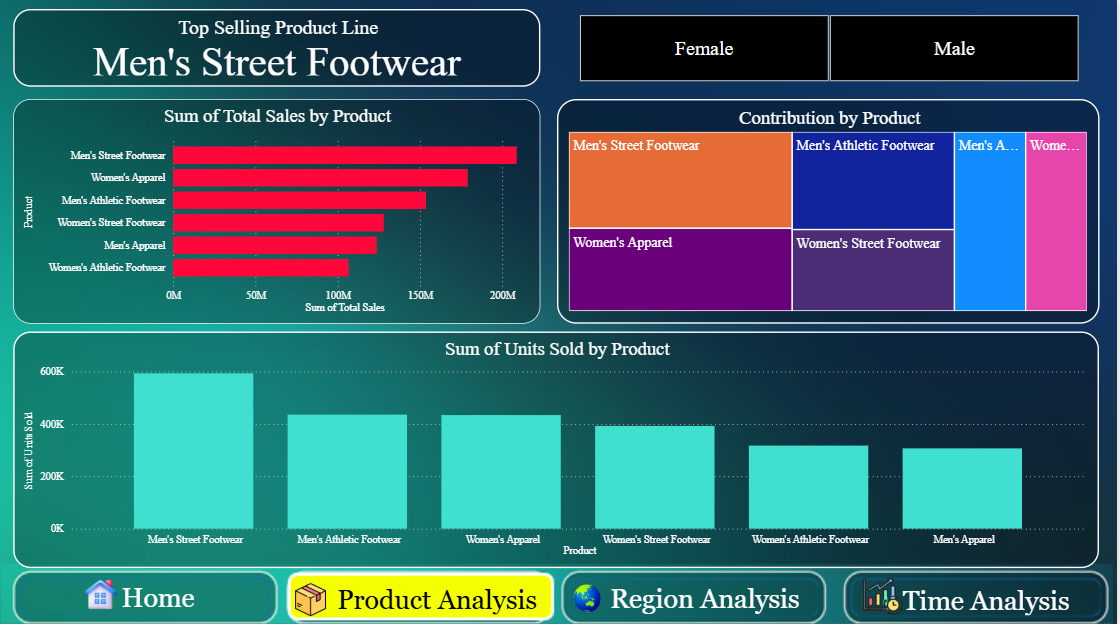

The dashboard page shown, as its layout file describes it:
{"tool":"powerbi","page":{"name":"Product Analysis","canvas":[1280,720],"ordinal":1},"visuals":[{"type":"clusteredBarChart","fields":{"Y":["Sum(Data Sales Adidas.Total Sales)"],"Category":["Data Sales Adidas.Product"]},"box":[19.2,113.9,602.4,256.6],"z":0},{"type":"treemap","title":"Contribution by Product","fields":{"Details":["Data Sales Adidas.Product"],"Values":["Sum(Data Sales Adidas.Total Sales)"]},"box":[639.5,113.9,620.2,256.6],"z":1000},{"type":"card","title":"Top Selling Product Line","fields":{"Values":["Data Sales Adidas.Top Selling Product Line"]},"box":[19.2,11,602.4,89.2],"z":2000},{"type":"slicer","title":"Gender","fields":{"Values":["Data Sales Adidas.Gender"]},"box":[639.5,11,620.2,89.2],"z":3000},{"type":"image","box":[0,640,1280,80],"z":4000},{"type":"lineStackedColumnComboChart","fields":{"Category":["Data Sales Adidas.Product"],"Y":["Sum(Data Sales Adidas.Units Sold)"]},"box":[19.2,380.1,1240.5,270.3],"z":5000},{"type":"image","box":[654.3,660,42.9,52.9],"z":6000},{"type":"image","box":[330,662.9,57.1,47.1],"z":7000},{"type":"image","box":[980,654.3,64.3,57.1],"z":8000},{"type":"actionButton","box":[964.3,657.1,304.3,60],"z":9000},{"type":"actionButton","box":[640,655.7,310,60],"z":10000},{"type":"image","box":[651.4,655.7,45.7,57.1],"z":11000},{"type":"actionButton","box":[330,652.9,310,67.1],"z":12000},{"type":"actionButton","box":[20,654.3,300,58.6],"z":13000},{"type":"image","box":[85.7,657.1,64.3,47.1],"z":14000}]}

Visuals, with their boxes in screenshot pixels (x1, y1, x2, y2), scaled from the page's 1280x720 canvas onto the 1120x624 screenshot:
clusteredBarChart - Sum(Data Sales Adidas.Total Sales) x Data Sales Adidas.Product: {"x1": 17, "y1": 99, "x2": 544, "y2": 321}
"Contribution by Product" treemap: {"x1": 560, "y1": 99, "x2": 1102, "y2": 321}
"Top Selling Product Line" card: {"x1": 17, "y1": 10, "x2": 544, "y2": 87}
"Gender" slicer: {"x1": 560, "y1": 10, "x2": 1102, "y2": 87}
image: {"x1": 0, "y1": 555, "x2": 1119, "y2": 623}
lineStackedColumnComboChart - Data Sales Adidas.Product x Sum(Data Sales Adidas.Units Sold): {"x1": 17, "y1": 329, "x2": 1102, "y2": 564}
image: {"x1": 573, "y1": 572, "x2": 610, "y2": 618}
image: {"x1": 289, "y1": 575, "x2": 339, "y2": 615}
image: {"x1": 858, "y1": 567, "x2": 914, "y2": 617}
actionButton: {"x1": 844, "y1": 569, "x2": 1110, "y2": 621}
actionButton: {"x1": 560, "y1": 568, "x2": 831, "y2": 620}
image: {"x1": 570, "y1": 568, "x2": 610, "y2": 618}
actionButton: {"x1": 289, "y1": 566, "x2": 560, "y2": 623}
actionButton: {"x1": 18, "y1": 567, "x2": 280, "y2": 618}
image: {"x1": 75, "y1": 569, "x2": 131, "y2": 610}
